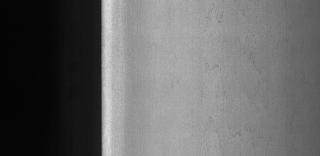silk spot: (201, 10, 283, 146)
